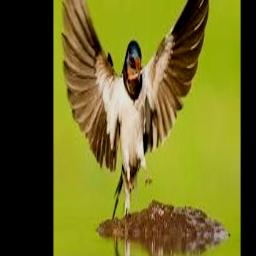Swallow: (62, 0, 214, 218)
